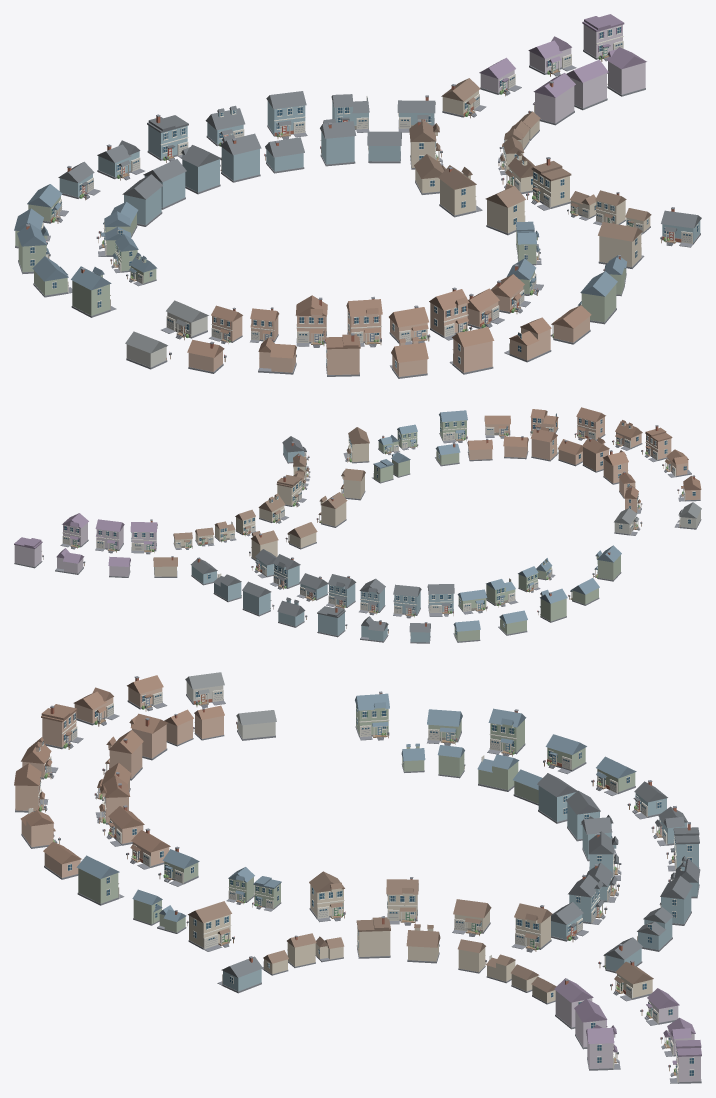
Rendered from twin-oaks.glb.
3 views of the same model, one above another, from view 1: azimuth 30°, elevation 25°; view 2: azimuth 150°, elevation 25°; view 3: azimuth 270°, elevation 25° (orthographic). The views are drawn at different scales.
Visible parts, largest first — view 1: suburban_20_garage_colonial.002, suburban_23_suburban_farmhouse.002, suburban_38_suburban_farmhouse.003, suburban_50_garage_colonial.004, suburban_89_double_garage.002, suburban_09_modern_suburban.002, suburban_49_center_colonial.004, suburban_14_double_garage.002, suburban_24_modern_suburban.002, suburban_08_suburban_farmhouse.002, suburban_85_front_gable.002, suburban_84_modern_suburban.002 (+46 smaller); view 2: suburban_44_double_garage.003, suburban_87_side_garage_two.002, suburban_29_double_garage.002, suburban_89_double_garage.002, suburban_23_suburban_farmhouse.002, suburban_27_side_garage_two.002, suburban_50_garage_colonial.004, suburban_34_center_colonial.003, suburban_08_suburban_farmhouse.002, suburban_20_garage_colonial.002, suburban_19_center_colonial.002, suburban_49_center_colonial.004 (+46 smaller); view 3: suburban_14_double_garage.002, suburban_44_double_garage.003, suburban_04_center_colonial.002, suburban_34_center_colonial.003, suburban_38_suburban_farmhouse.003, suburban_10_front_gable.002, suburban_54_modern_suburban.004, suburban_08_suburban_farmhouse.002, suburban_09_modern_suburban.002, suburban_29_double_garage.002, suburban_85_front_gable.002, suburban_50_garage_colonial.004 (+49 smaller).
Boxes of the visible parts, <box> form: suburban_20_garage_colonial.002: <box>266,91,307,139</box>; suburban_23_suburban_farmhouse.002: <box>220,133,261,182</box>; suburban_38_suburban_farmhouse.003: <box>71,266,116,317</box>; suburban_50_garage_colonial.004: <box>449,327,494,374</box>; suburban_89_double_garage.002: <box>528,73,575,125</box>; suburban_09_modern_suburban.002: <box>526,157,571,210</box>; suburban_49_center_colonial.004: <box>429,287,472,340</box>; suburban_14_double_garage.002: <box>598,222,644,268</box>; suburban_24_modern_suburban.002: <box>147,114,188,162</box>; suburban_08_suburban_farmhouse.002: <box>438,165,482,217</box>; suburban_85_front_gable.002: <box>606,47,646,96</box>; suburban_84_modern_suburban.002: <box>582,14,624,61</box>; suburban_44_double_garage.003: <box>439,410,467,443</box>; suburban_87_side_garage_two.002: <box>95,519,124,553</box>; suburban_29_double_garage.002: <box>427,584,454,616</box>; suburban_89_double_garage.002: <box>130,519,157,554</box>; suburban_23_suburban_farmhouse.002: <box>326,574,356,608</box>; suburban_27_side_garage_two.002: <box>393,584,421,618</box>; suburban_50_garage_colonial.004: <box>574,407,605,440</box>; suburban_34_center_colonial.003: <box>537,588,567,622</box>; suburban_08_suburban_farmhouse.002: <box>316,492,347,527</box>; suburban_20_garage_colonial.002: <box>242,581,274,616</box>; suburban_19_center_colonial.002: <box>270,554,300,589</box>; suburban_49_center_colonial.004: <box>530,427,558,461</box>; suburban_14_double_garage.002: <box>188,901,234,951</box>; suburban_44_double_garage.003: <box>76,855,124,905</box>; suburban_04_center_colonial.002: <box>511,903,552,952</box>; suburban_34_center_colonial.003: <box>487,708,526,756</box>; suburban_38_suburban_farmhouse.003: <box>355,691,389,740</box>; suburban_10_front_gable.002: <box>309,871,345,922</box>; suburban_54_modern_suburban.004: <box>41,704,83,749</box>; suburban_08_suburban_farmhouse.002: <box>386,877,418,925</box>; suburban_09_modern_suburban.002: <box>356,916,390,958</box>; suburban_29_double_garage.002: <box>537,773,577,823</box>; suburban_85_front_gable.002: <box>586,1025,620,1070</box>; suburban_50_garage_colonial.004: <box>14,763,48,812</box>.
Size of the model in its own units: 161 by 21.03 by 135.
